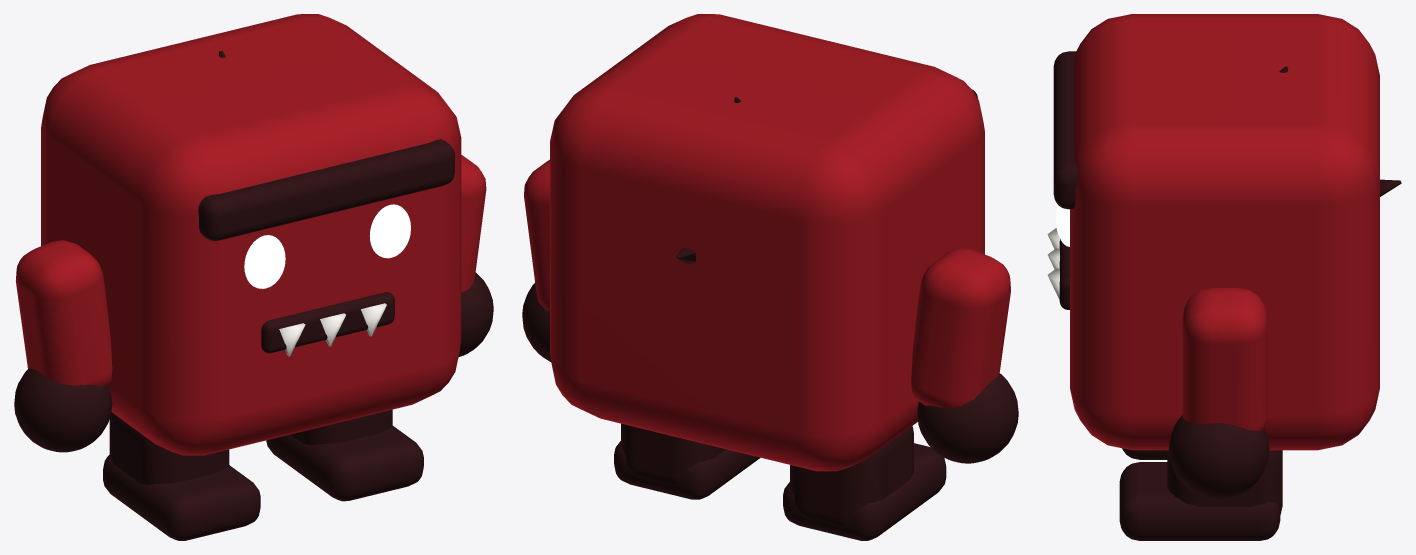
Rendered from klods.glb.
3 views of the same model, side by side, from view 1: azimuth 30°, elevation 25°; view 2: azimuth 150°, elevation 25°; view 3: azimuth 270°, elevation 25° (orthographic). The views are drawn at different scales.
Parts seen in each view (by area): view 1: krop_net, armV_net, benV_net, benH_net, armH_net; view 2: krop_net, armV_net, benV_net, benH_net, armH_net; view 3: krop_net, armH_net, benH_net.
Part boxes in pixels (x1,y1,x2,y2): krop_net: [41, 14, 461, 455]; armV_net: [14, 240, 112, 452]; benV_net: [103, 412, 260, 540]; benH_net: [266, 409, 423, 501]; armH_net: [458, 155, 493, 356]; krop_net: [550, 14, 984, 471]; armV_net: [911, 248, 1018, 463]; benV_net: [783, 426, 946, 540]; benH_net: [614, 423, 760, 499]; armH_net: [522, 159, 551, 361]; krop_net: [1047, 14, 1401, 450]; armH_net: [1169, 288, 1269, 498]; benH_net: [1119, 450, 1282, 540].
Size of the model in its own units: 1.86 by 1.56 by 1.2.
